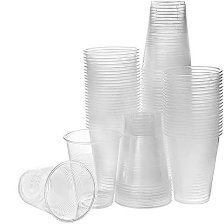glass: (80, 38, 146, 197), (154, 57, 223, 209), (132, 0, 197, 126), (101, 105, 177, 208), (5, 152, 101, 223), (61, 122, 117, 208)
